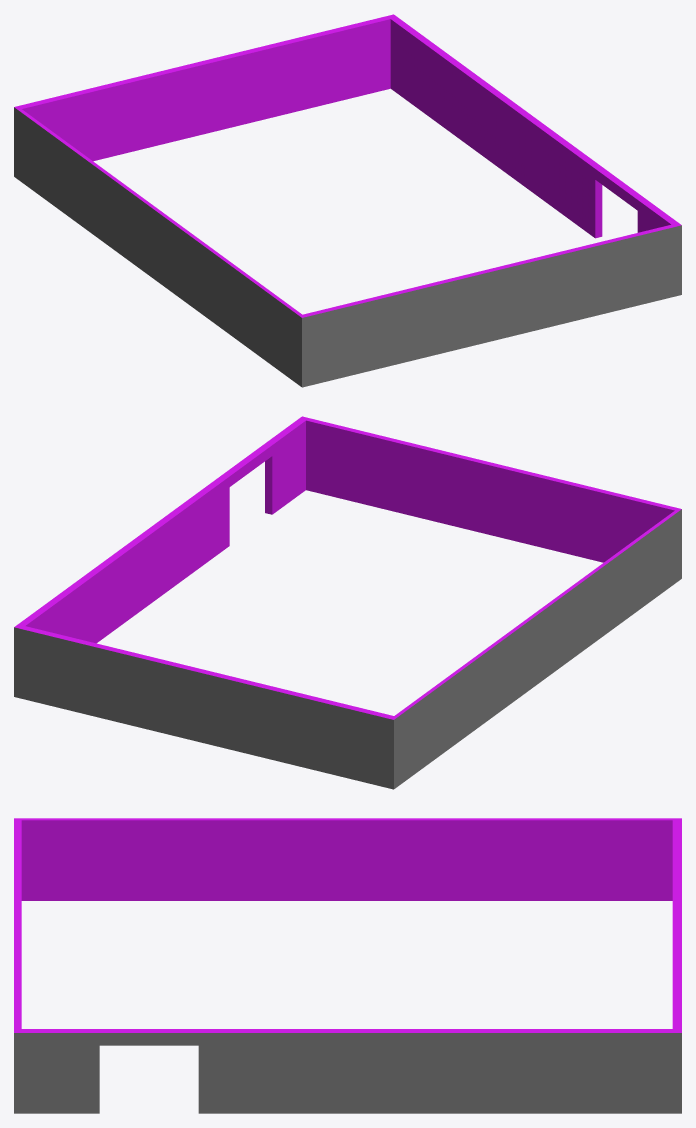
Rendered from ParedExterior.fbx.
3 renders of one model, top to bottom at view 1: azimuth 30°, elevation 25°; view 2: azimuth 150°, elevation 25°; view 3: azimuth 270°, elevation 25°, orthographic. The views are drawn at different scales.
Visible parts, largest first — view 1: ParedExterior; view 2: ParedExterior; view 3: ParedExterior.
Part boxes in pixels (x1,y1,x2,y2): ParedExterior: (14,14,681,387); ParedExterior: (14,416,681,789); ParedExterior: (14,818,681,1113).
Bounding box in the file's own units: 899 × 157 × 1181.
